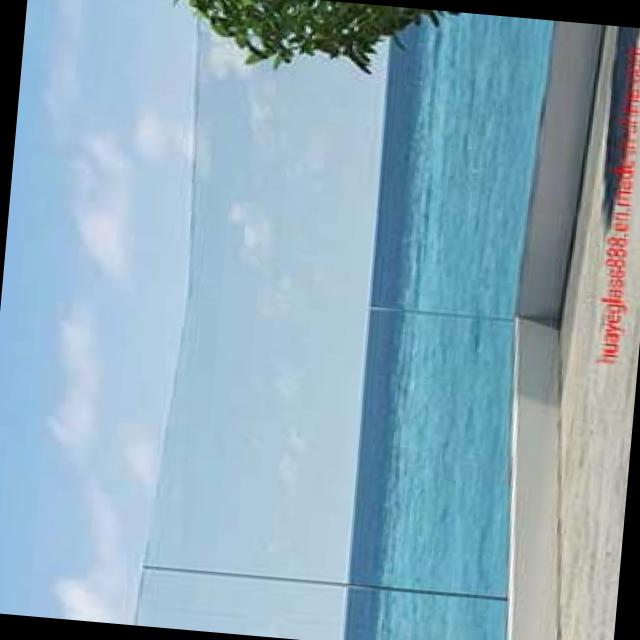glass: (109, 0, 577, 640)
